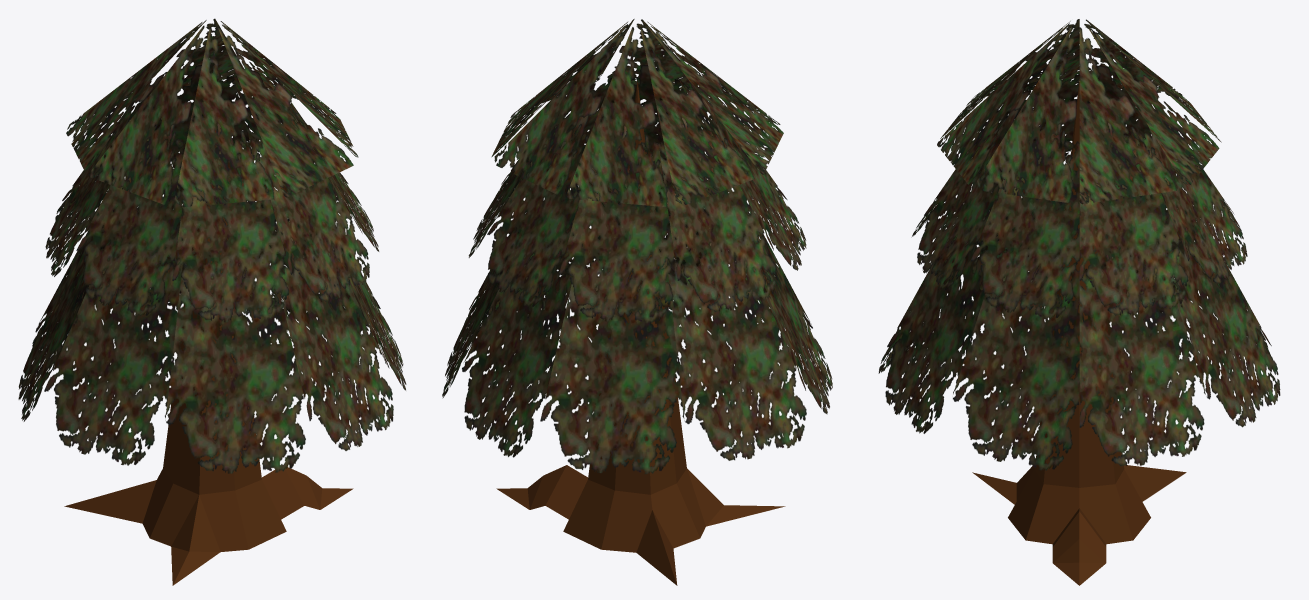
File: dying tree.glb
The picture shows the model from 3 angles, left to right: view 1: azimuth 30°, elevation 25°; view 2: azimuth 150°, elevation 25°; view 3: azimuth 270°, elevation 25°; orthographic projection.
Visible parts, largest first — view 1: tree2; view 2: tree2; view 3: tree2.
Part boxes in pixels (x1,y1,x2,y2): tree2: (18,18,406,585); tree2: (442,19,832,585); tree2: (878,19,1280,585).
Bounding box in the file's own units: 1.8 × 2.33 × 1.8.
Materials: 2 (1 with a texture image).
